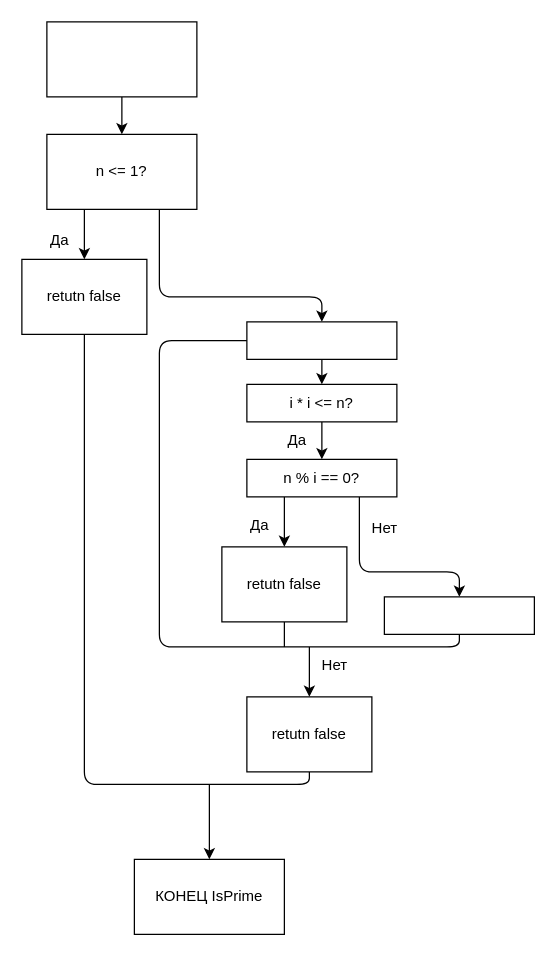
This 556x956 diagram has some shape labels left out. The shapes that lost their labels are listed below. From the top down, each one's centre as x and y in pixels, then its label:
the point at 121,59: НАЧАЛО IsPrime(n)
the point at 321,340: i = 2
the point at 458,615: i = i + 1
